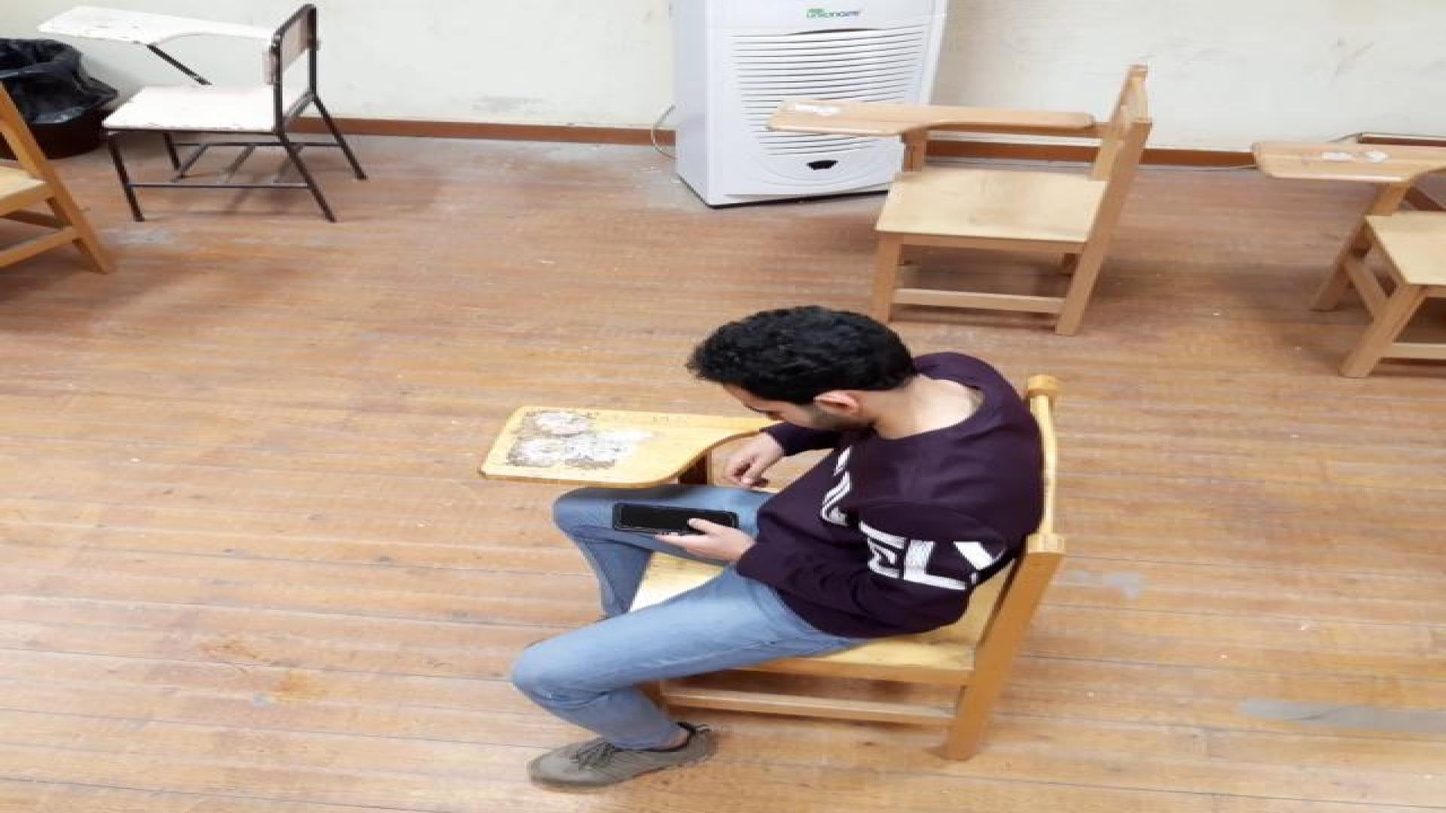phone: (612, 501, 741, 537)
